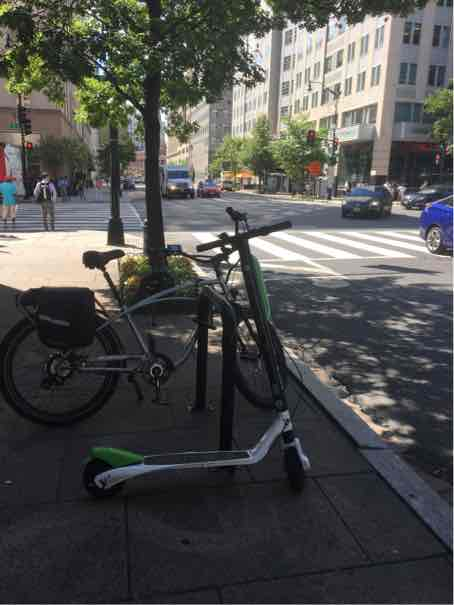scooter: (67, 211, 321, 509)
